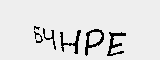Б: (33, 24, 44, 46)
Е: (106, 29, 127, 58)
Н: (59, 29, 81, 55)
Р: (83, 26, 104, 57)
Ч: (42, 26, 57, 54)
